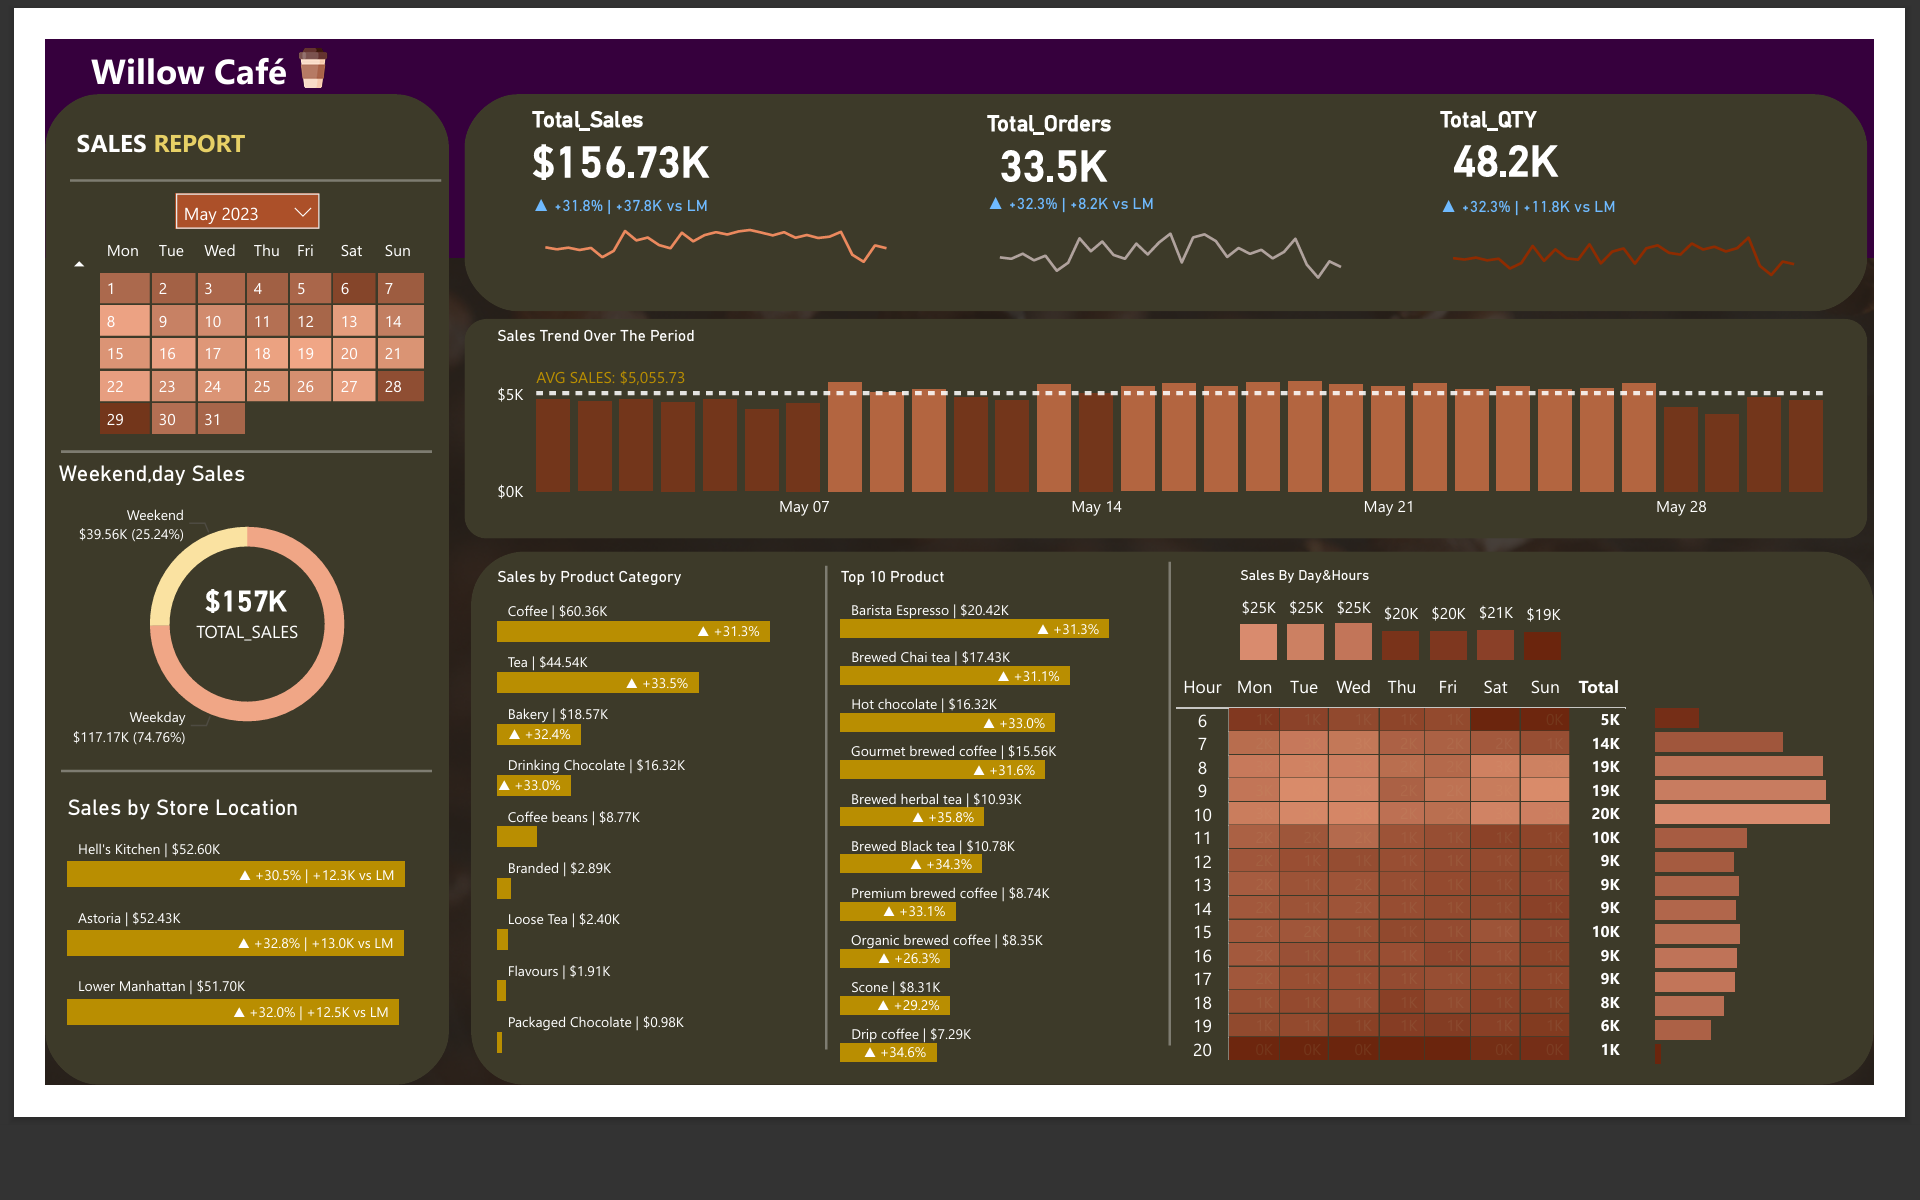

The dashboard page shown, as its layout file describes it:
{"tool":"powerbi","page":{"name":"DASHBOARD","canvas":[1400,800],"ordinal":0},"visuals":[{"type":"shape","box":[0,0,1400,166.8],"z":0},{"type":"advanceCardE03760C5AB684758B56AA29F9E6C257B","title":"Total_QTY","fields":{"mainMeasure":["MEASURES (2).Total_QTY"]},"box":[1063,51.7,176.7,65.5],"z":0,"group":"g2"},{"type":"lineChart","fields":{"Category":["Date Table.Date.Variation.Date Hierarchy.Year","Date Table.Date.Variation.Date Hierarchy.Quarter","Date Table.Date.Variation.Date Hierarchy.Month","Date Table.Date.Variation.Date Hierarchy.Day"],"Y":["MEASURES (2).Total_Orders"]},"box":[715.4,118.9,290.6,70.8],"z":0,"group":"g4"},{"type":"shape","box":[0,42.5,309.4,757.5],"z":1000},{"type":"advanceCardE03760C5AB684758B56AA29F9E6C257B","title":"Total_Orders","fields":{"mainMeasure":["MEASURES (2).Total_Orders"]},"box":[715.4,54.7,177.4,67],"z":1000,"group":"g4"},{"type":"lineChart","fields":{"Category":["Date Table.Date.Variation.Date Hierarchy.Year","Date Table.Date.Variation.Date Hierarchy.Quarter","Date Table.Date.Variation.Date Hierarchy.Month","Date Table.Date.Variation.Date Hierarchy.Day"],"Y":["MEASURES (2).Total_QTY"]},"box":[1063,120.2,290.9,70.5],"z":1000,"group":"g2"},{"type":"shape","box":[320.8,42.5,1073.6,166],"z":2000,"group":"g3"},{"type":"advanceCardE03760C5AB684758B56AA29F9E6C257B","fields":{"mainMeasure":["MEASURES (2).TOTAL_SALES"]},"box":[89.6,401.9,130.2,70.8],"z":2000},{"type":"textbox","box":[30.2,0,249.1,63.2],"z":3000},{"type":"shape","box":[320.8,214.2,1073.6,167.9],"z":3000,"group":"g5"},{"type":"slicer","fields":{"Values":["Date Table.Month Year"]},"box":[89.6,108.5,130.2,45.3],"z":4000},{"type":"group","id":"g1","title":"Group 1","box":[367.9,51.7,289.9,139],"z":5000,"group":"g3"},{"type":"advanceCardE03760C5AB684758B56AA29F9E6C257B","title":"Total_Sales","fields":{"mainMeasure":["MEASURES (2).TOTAL_SALES"]},"box":[367.9,51.7,177.4,67.9],"z":5000,"group":"g1"},{"type":"pivotTable","fields":{"Rows":["Date Table.WeekNum"],"Columns":["Date Table.DayName"],"Values":["Min(Date Table.DayNum)"]},"box":[12.3,145.3,284,164.2],"z":5000},{"type":"group","id":"g2","title":"Group 2","box":[1063,51.7,290.9,139],"z":6000,"group":"g3"},{"type":"shape","box":[18.9,101.9,284,12.3],"z":6000},{"type":"lineChart","fields":{"Y":["MEASURES (2).TOTAL_SALES"],"Category":["Date Table.Date.Variation.Date Hierarchy.Year","Date Table.Date.Variation.Date Hierarchy.Quarter","Date Table.Date.Variation.Date Hierarchy.Month","Date Table.Date.Variation.Date Hierarchy.Day"]},"box":[367.9,119.6,290.6,70.8],"z":6000,"group":"g1"},{"type":"group","id":"g3","title":"Group 4","box":[320.8,42.5,1073.6,166],"z":7000},{"type":"group","id":"g4","title":"Group 3","box":[715.4,54.7,290.9,135],"z":7000,"group":"g3"},{"type":"shape","box":[12.3,309.4,284,12.3],"z":8000},{"type":"shape","box":[12.3,553.8,284,12.3],"z":9000},{"type":"clusteredBarChart","title":"Sales by Store Location","fields":{"Y":["MEASURES (2).placeholder","MEASURES (2).TOTAL_SALES"],"Category":["Coffee Shop Sales.store_location"]},"box":[12.3,578.3,297.2,184],"z":10000},{"type":"donutChart","title":"Weekend,day Sales","fields":{"Category":["Date Table.Day Type"],"Y":["MEASURES (2).TOTAL_SALES"]},"box":[4.7,321.7,299.1,232.1],"z":11000},{"type":"shape","box":[326.4,392.5,1073.6,407.5],"z":12000},{"type":"clusteredBarChart","title":"Sales by Product Category","fields":{"Y":["MEASURES (2).placeholder","MEASURES (2).TOTAL_SALES"],"Category":["Coffee Shop Sales.product_category"]},"box":[340.6,403.8,250.9,377.4],"z":13000},{"type":"columnChart","title":"Sales Trend Over The Period","fields":{"Y":["MEASURES (2).TOTAL_SALES"],"Category":["Coffee Shop Sales.transaction_date"]},"box":[340.6,219.9,1033,156.6],"z":14000,"group":"g5"},{"type":"shape","box":[591.5,402.8,12.3,369.8],"z":14000},{"type":"clusteredBarChart","title":"Top 10 Product","fields":{"Y":["MEASURES (2).placeholder","MEASURES (2).TOTAL_SALES"],"Category":["Coffee Shop Sales.product_type"]},"box":[603.8,403.8,250.9,384],"z":15000},{"type":"shape","box":[854.7,400,12.3,369.8],"z":16000},{"type":"pivotTable","fields":{"Rows":["Coffee Shop Sales.Hour"],"Columns":["Date Table.DayName"],"Values":["MEASURES (2).TOTAL_SALES"]},"box":[861.3,481.1,359.4,307.5],"z":17000},{"type":"barChart","fields":{"Category":["Coffee Shop Sales.Hour"],"Y":["MEASURES (2).TOTAL_SALES"]},"box":[1228.3,499.1,145.3,289.6],"z":18000},{"type":"columnChart","title":"Sales By Day&Hours","fields":{"Y":["MEASURES (2).TOTAL_SALES"],"Category":["Date Table.DayName"]},"box":[910.4,403.8,256.6,77.4],"z":19000},{"type":"group","id":"g5","title":"Group 5","box":[320.8,214.2,1073.6,167.9],"z":20000},{"type":"textbox","box":[18.9,61.3,151.9,45.3],"z":21000},{"type":"image","box":[190,0,30,42.6],"z":22000}]}

Visuals, with their boxes on the page's 1400x800 design canvas (x1, y1, x2, y2). These are canvas units, not pixel positions in the 1920x1200 screenshot, which may show the page scaled, cropped or inside an application window:
shape: Rect(0, 0, 1400, 167)
"Total_QTY" advanceCardE03760C5AB684758B56AA29F9E6C257B: Rect(1063, 52, 1240, 117)
lineChart - Date Table.Date.Variation.Date Hierarchy.Year x Date Table.Date.Variation.Date Hierarchy.Quarter: Rect(715, 119, 1006, 190)
shape: Rect(0, 42, 309, 800)
"Total_Orders" advanceCardE03760C5AB684758B56AA29F9E6C257B: Rect(715, 55, 893, 122)
lineChart - Date Table.Date.Variation.Date Hierarchy.Year x Date Table.Date.Variation.Date Hierarchy.Quarter: Rect(1063, 120, 1354, 191)
shape: Rect(321, 42, 1394, 208)
advanceCardE03760C5AB684758B56AA29F9E6C257B - MEASURES (2).TOTAL_SALES: Rect(90, 402, 220, 473)
textbox: Rect(30, 0, 279, 63)
shape: Rect(321, 214, 1394, 382)
slicer - Date Table.Month Year: Rect(90, 108, 220, 154)
"Group 1" group: Rect(368, 52, 658, 191)
"Total_Sales" advanceCardE03760C5AB684758B56AA29F9E6C257B: Rect(368, 52, 545, 120)
pivotTable - Date Table.WeekNum x Date Table.DayName: Rect(12, 145, 296, 310)
"Group 2" group: Rect(1063, 52, 1354, 191)
shape: Rect(19, 102, 303, 114)
lineChart - MEASURES (2).TOTAL_SALES x Date Table.Date.Variation.Date Hierarchy.Year: Rect(368, 120, 658, 190)
"Group 4" group: Rect(321, 42, 1394, 208)
"Group 3" group: Rect(715, 55, 1006, 190)
shape: Rect(12, 309, 296, 322)
shape: Rect(12, 554, 296, 566)
"Sales by Store Location" clusteredBarChart: Rect(12, 578, 310, 762)
"Weekend,day Sales" donutChart: Rect(5, 322, 304, 554)
shape: Rect(326, 392, 1400, 800)
"Sales by Product Category" clusteredBarChart: Rect(341, 404, 592, 781)
"Sales Trend Over The Period" columnChart: Rect(341, 220, 1374, 376)
shape: Rect(592, 403, 604, 773)
"Top 10 Product" clusteredBarChart: Rect(604, 404, 855, 788)
shape: Rect(855, 400, 867, 770)
pivotTable - Coffee Shop Sales.Hour x Date Table.DayName: Rect(861, 481, 1221, 789)
barChart - Coffee Shop Sales.Hour x MEASURES (2).TOTAL_SALES: Rect(1228, 499, 1374, 789)
"Sales By Day&Hours" columnChart: Rect(910, 404, 1167, 481)
"Group 5" group: Rect(321, 214, 1394, 382)
textbox: Rect(19, 61, 171, 107)
image: Rect(190, 0, 220, 43)
